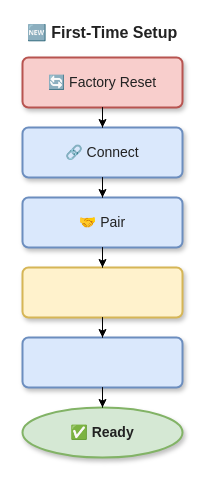
This 206x482 diagram has some shape labels left out. Here are the shapes that lost their labels. From the top down, the centre of each, then its label:
(x=103, y=293): 🔑 SetAuthKey
(x=103, y=363): 🕐 SyncTime
